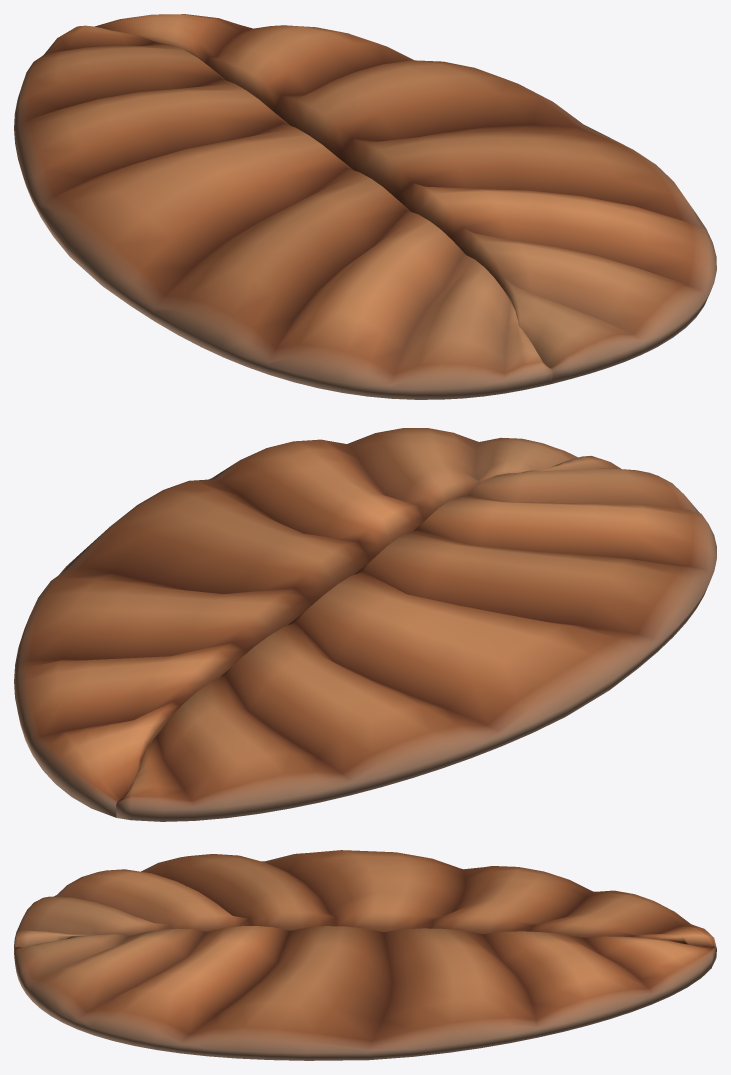
File: Vendia.fbx
3 renders of one model, top to bottom at view 1: azimuth 30°, elevation 25°; view 2: azimuth 150°, elevation 25°; view 3: azimuth 270°, elevation 25°, orthographic. The views are drawn at different scales.
Parts seen in each view (by area): view 1: Vendia; view 2: Vendia; view 3: Vendia.
Part boxes in pixels (x1,y1,x2,y2): Vendia: (14, 14, 716, 399); Vendia: (14, 428, 716, 821); Vendia: (14, 850, 716, 1060).
Bounding box in the file's own units: 1.04 × 0.1227 × 1.6.
